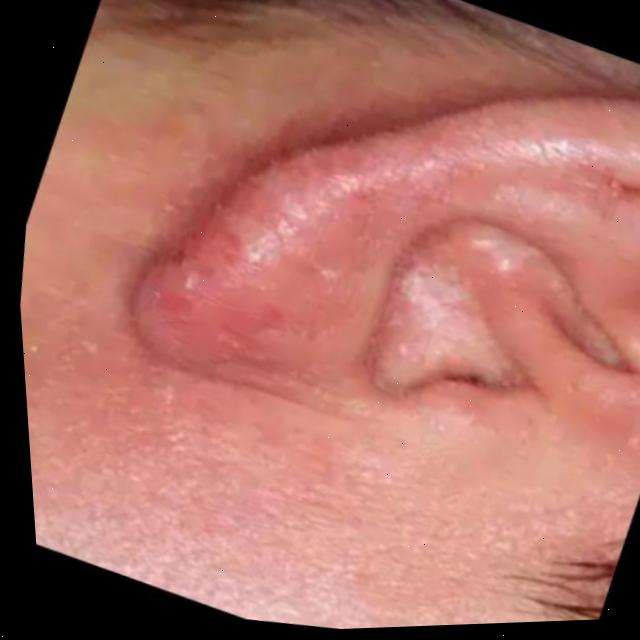Eczema: (138, 101, 586, 406)
